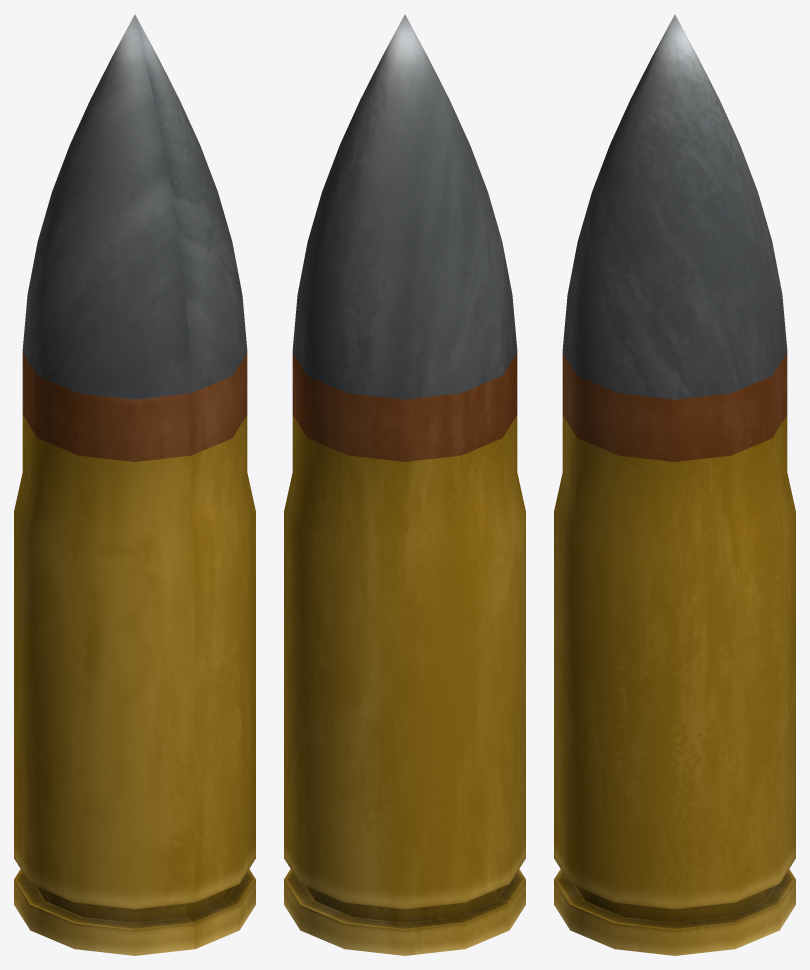
Rendered from MediumTank_Gear_Shell_01.FBX.
3 views of the same model, side by side, from view 1: azimuth 30°, elevation 25°; view 2: azimuth 150°, elevation 25°; view 3: azimuth 270°, elevation 25° (orthographic).
Parts seen in each view (by area): view 1: MediumTank_Gear_Shell_01; view 2: MediumTank_Gear_Shell_01; view 3: MediumTank_Gear_Shell_01.
Boxes of the visible parts, x1=… form: MediumTank_Gear_Shell_01: x1=14, y1=14, x2=255, y2=955; MediumTank_Gear_Shell_01: x1=284, y1=14, x2=525, y2=955; MediumTank_Gear_Shell_01: x1=554, y1=14, x2=795, y2=955.
Bounding box in the file's own units: 0.2182 × 0.8871 × 0.2182.
